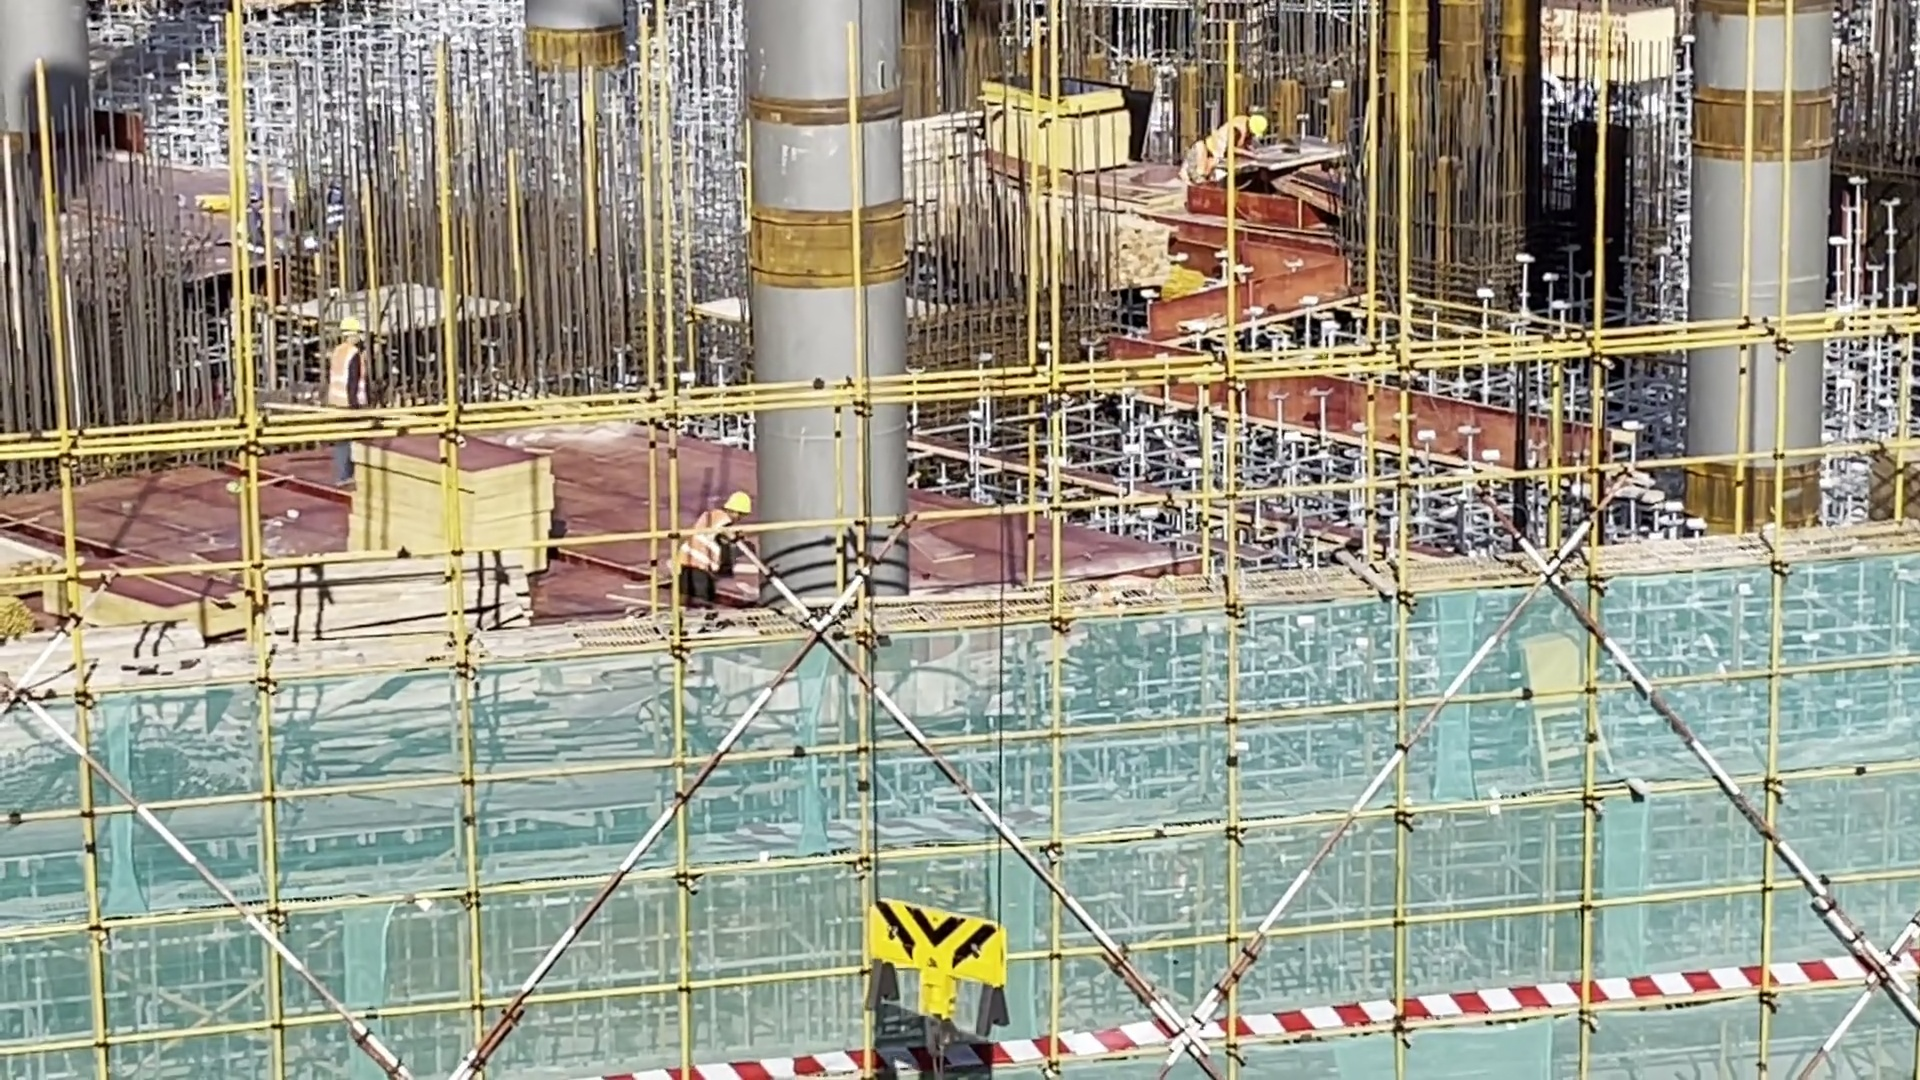board: (359, 431, 559, 560)
helmet: (716, 489, 756, 518), (1245, 113, 1269, 135)
hook: (863, 900, 1017, 1038)
person: (677, 492, 763, 612), (325, 310, 366, 504), (1209, 110, 1274, 164)
vest: (687, 510, 738, 580), (328, 341, 366, 416)
